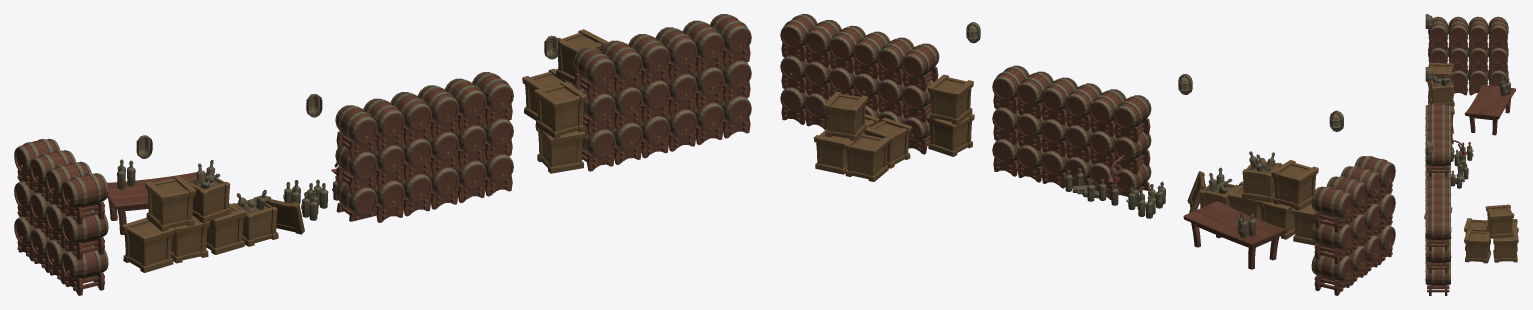
The model's file is SM_Setdressing_Level1_WineCellar.fbx.
The picture shows the model from 3 angles, left to right: view 1: azimuth 30°, elevation 25°; view 2: azimuth 150°, elevation 25°; view 3: azimuth 270°, elevation 25°; orthographic projection. The views are drawn at different scales.
Parts seen in each view (by area): view 1: SM_Setdressing_Level1_WineCellar; view 2: SM_Setdressing_Level1_WineCellar; view 3: SM_Setdressing_Level1_WineCellar.
Part boxes in pixels (x1,y1,x2,y2): SM_Setdressing_Level1_WineCellar: (14,14,751,295); SM_Setdressing_Level1_WineCellar: (780,14,1395,295); SM_Setdressing_Level1_WineCellar: (1424,14,1518,295).
Bounding box in the file's own units: 1993 × 378 × 410.
